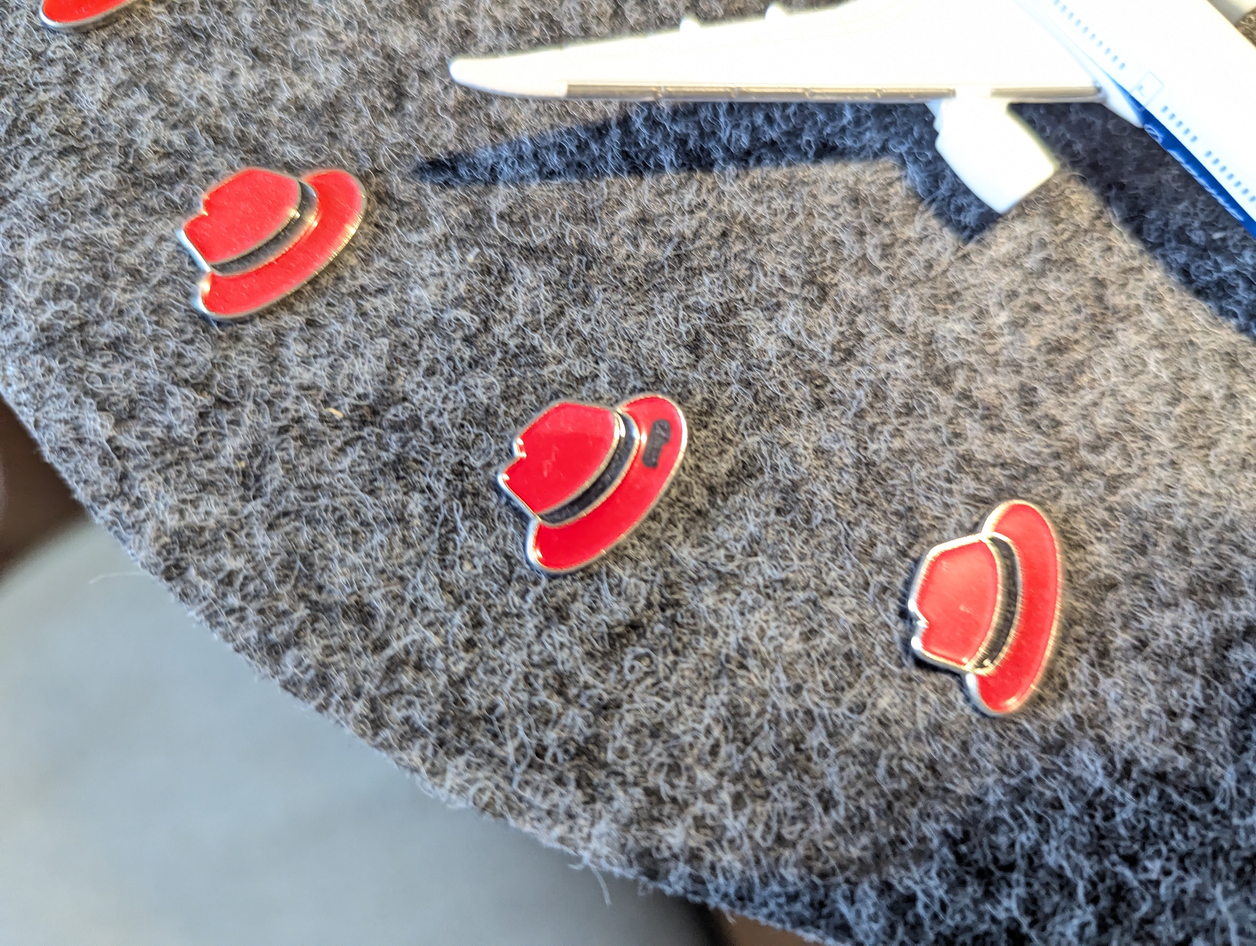Airplane: (410, 0, 1256, 291)
Red-Hat: (473, 383, 730, 634), (883, 450, 1076, 762), (151, 153, 395, 365)
Scratch: (637, 411, 679, 485)
